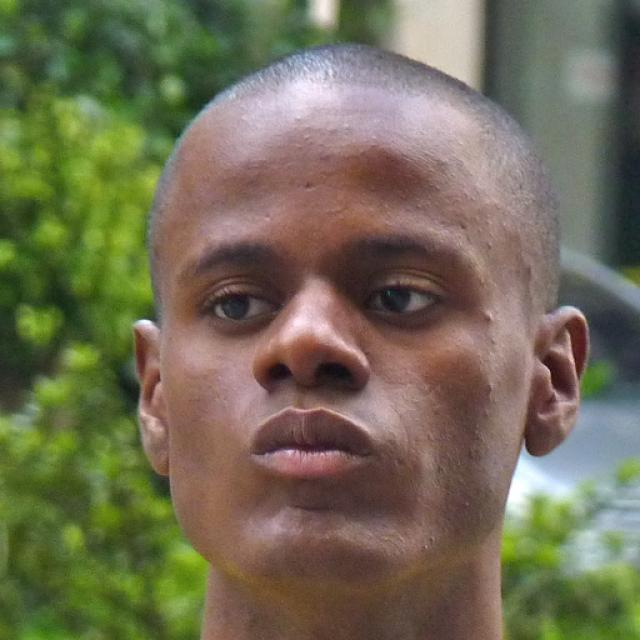Acne: (399, 195, 431, 223), (427, 151, 454, 180), (415, 526, 440, 557), (477, 399, 499, 429), (461, 184, 489, 207), (482, 377, 505, 399), (476, 238, 501, 258), (478, 308, 501, 326), (471, 273, 494, 290), (485, 334, 502, 348)
